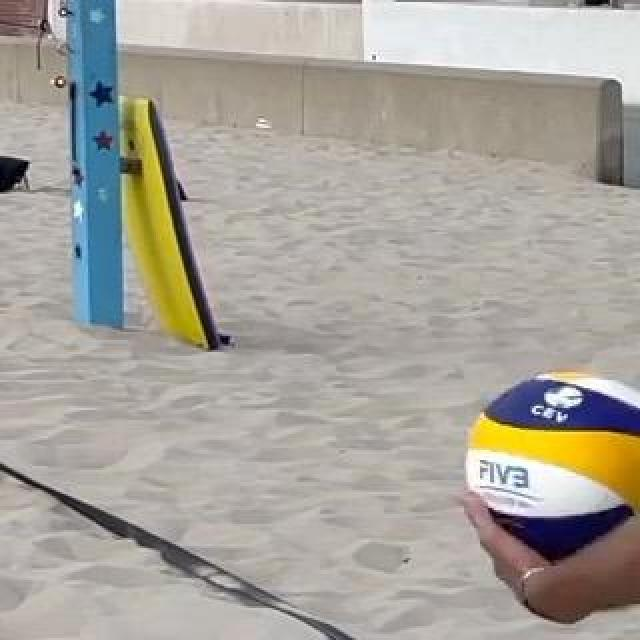volleyball: (462, 370, 640, 570)
